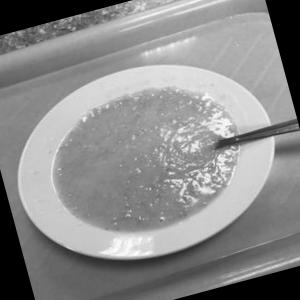porridge: (30, 60, 260, 253)
